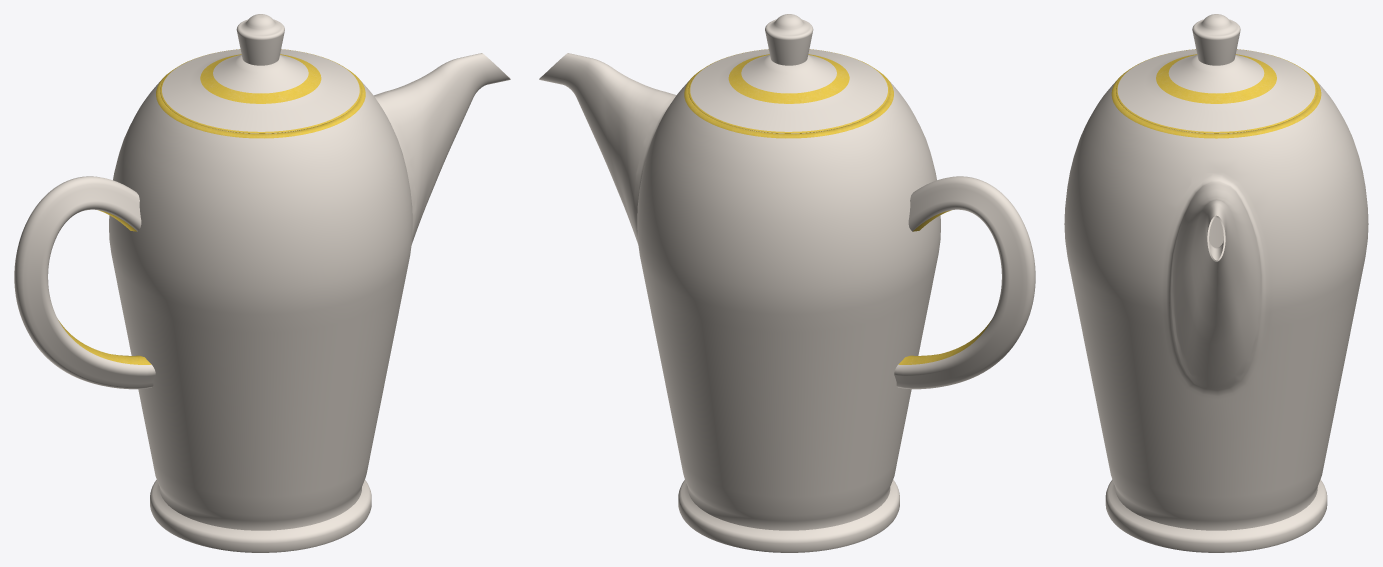
Rendered from TeaPot_Intact.fbx.
3 renders of one model, left to right at view 1: azimuth 30°, elevation 25°; view 2: azimuth 150°, elevation 25°; view 3: azimuth 270°, elevation 25°, orthographic.
Visible parts, largest first — view 1: TeaPot; view 2: TeaPot; view 3: TeaPot.
Boxes of the visible parts, x1,y1,x2,y2 form: TeaPot: (14, 14, 510, 552); TeaPot: (539, 14, 1035, 552); TeaPot: (1064, 14, 1368, 552).
Bounding box in the file's own units: 33.58 × 31.88 × 17.88.
